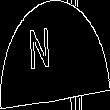N_S: (43, 28, 67, 82)
